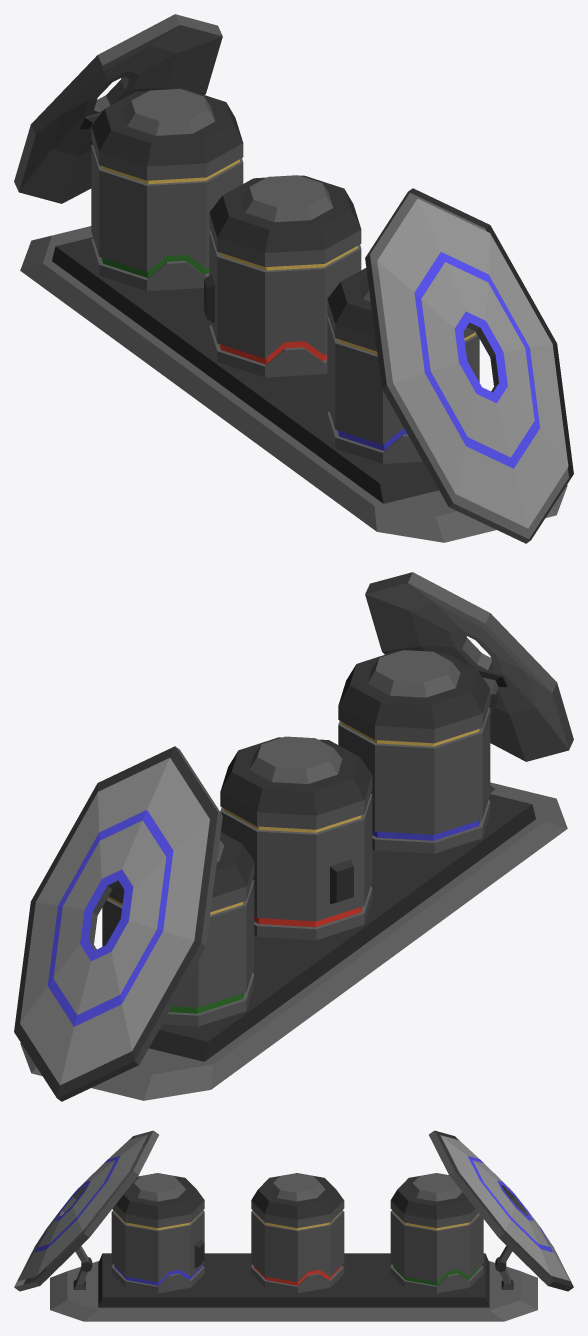
Rendered from shieldGenerator.glb.
3 renders of one model, top to bottom at view 1: azimuth 30°, elevation 25°; view 2: azimuth 150°, elevation 25°; view 3: azimuth 270°, elevation 25°, orthographic. The views are drawn at different scales.
Visible parts, largest first — view 1: ShieldGenerator; view 2: ShieldGenerator; view 3: ShieldGenerator.
Part boxes in pixels (<box>): ShieldGenerator: <box>14,14,573,543</box>; ShieldGenerator: <box>14,572,573,1101</box>; ShieldGenerator: <box>14,1130,573,1321</box>.
Bounding box in the file's own units: 0.6609 × 0.9159 × 2.84.
